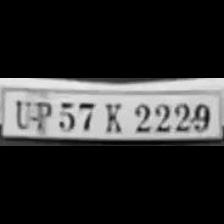2: (128, 99, 154, 133), (151, 99, 171, 133), (171, 99, 191, 133)
5: (54, 98, 76, 132)
7: (76, 98, 96, 132)
9: (190, 100, 212, 132)
K: (97, 97, 125, 132)
P: (28, 97, 52, 128)
U: (8, 96, 30, 130)
